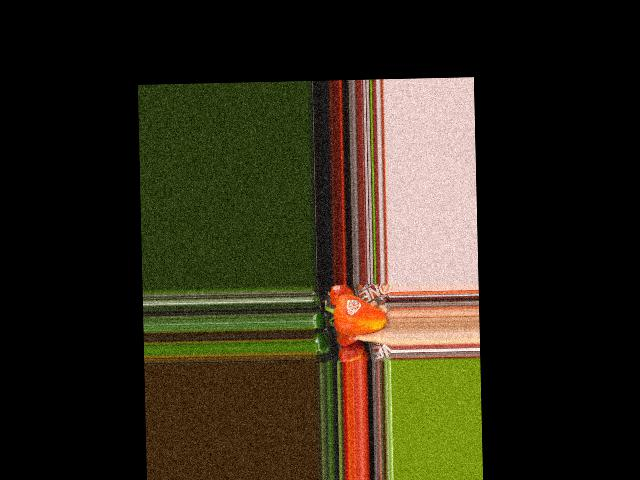bell_pepper: (323, 292, 386, 340)
